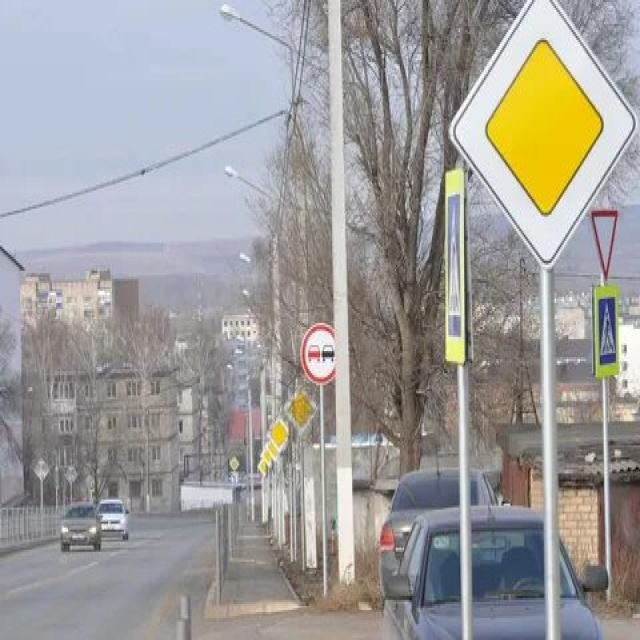signs: (448, 0, 638, 281), (283, 383, 318, 435), (267, 418, 289, 450), (265, 435, 280, 461), (260, 446, 274, 468), (258, 458, 268, 478), (229, 454, 240, 472)
